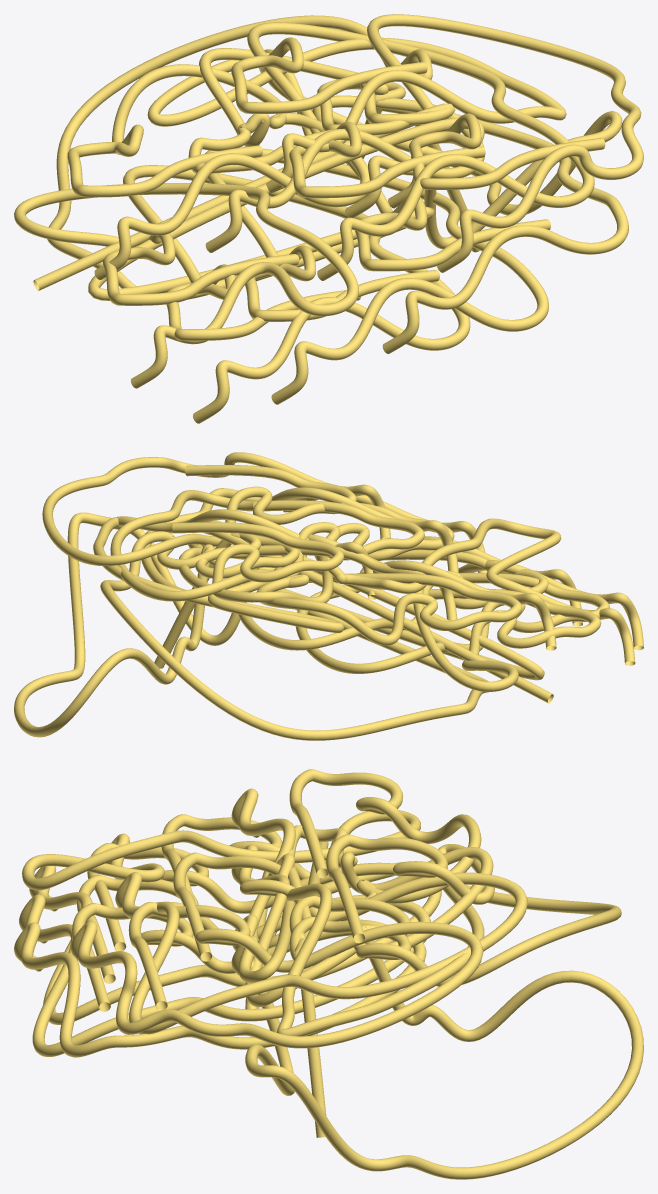
Rendered from noodles.fbx.
3 views of the same model, one above another, from view 1: azimuth 30°, elevation 25°; view 2: azimuth 150°, elevation 25°; view 3: azimuth 270°, elevation 25° (orthographic). The views are drawn at different scales.
Visible parts, largest first — view 1: NurbsPath.002, NurbsPath.009, NurbsPath, NurbsPath.010, NurbsPath.003, NurbsPath.008, NurbsPath.005, NurbsPath.004, NurbsPath.001, NurbsPath.006, NurbsPath.007; view 2: NurbsPath.002, NurbsPath.007, NurbsPath.009, NurbsPath.010, NurbsPath.003, NurbsPath, NurbsPath.008, NurbsPath.001, NurbsPath.006, NurbsPath.005, NurbsPath.004; view 3: NurbsPath.007, NurbsPath.009, NurbsPath, NurbsPath.003, NurbsPath.004, NurbsPath.010, NurbsPath.002, NurbsPath.008, NurbsPath.005, NurbsPath.001, NurbsPath.006.
Part boxes in pixels (x1,y1,x2,y2): NurbsPath.002: [33, 15, 484, 300]; NurbsPath.009: [367, 14, 643, 272]; NurbsPath: [247, 22, 594, 280]; NurbsPath.010: [14, 183, 358, 388]; NurbsPath.003: [147, 37, 566, 193]; NurbsPath.008: [67, 64, 369, 279]; NurbsPath.005: [205, 146, 548, 404]; NurbsPath.004: [312, 95, 628, 353]; NurbsPath.001: [123, 165, 470, 423]; NurbsPath.006: [188, 48, 484, 252]; NurbsPath.007: [259, 49, 622, 252]; NurbsPath.002: [100, 520, 553, 740]; NurbsPath.007: [14, 512, 333, 737]; NurbsPath.009: [42, 452, 390, 565]; NurbsPath.010: [413, 518, 635, 691]; NurbsPath.003: [93, 509, 375, 632]; NurbsPath: [110, 487, 458, 601]; NurbsPath.008: [256, 560, 556, 650]; NurbsPath.001: [295, 560, 643, 673]; NurbsPath.006: [179, 534, 457, 620]; NurbsPath.005: [238, 536, 582, 650]; NurbsPath.004: [141, 488, 487, 592]; NurbsPath.007: [232, 895, 643, 1179]; NurbsPath.009: [71, 902, 483, 1048]; NurbsPath: [115, 852, 527, 1034]; NurbsPath.003: [269, 834, 494, 1036]; NurbsPath.004: [14, 903, 426, 1057]; NurbsPath.010: [22, 810, 420, 920]; NurbsPath.002: [231, 841, 621, 1009]; NurbsPath.008: [231, 769, 481, 947]; NurbsPath.005: [19, 875, 430, 1056]; NurbsPath.001: [29, 843, 441, 1024]; NurbsPath.006: [231, 825, 493, 1007].
Bounding box in the file's own units: 111 × 38.14 × 103.
